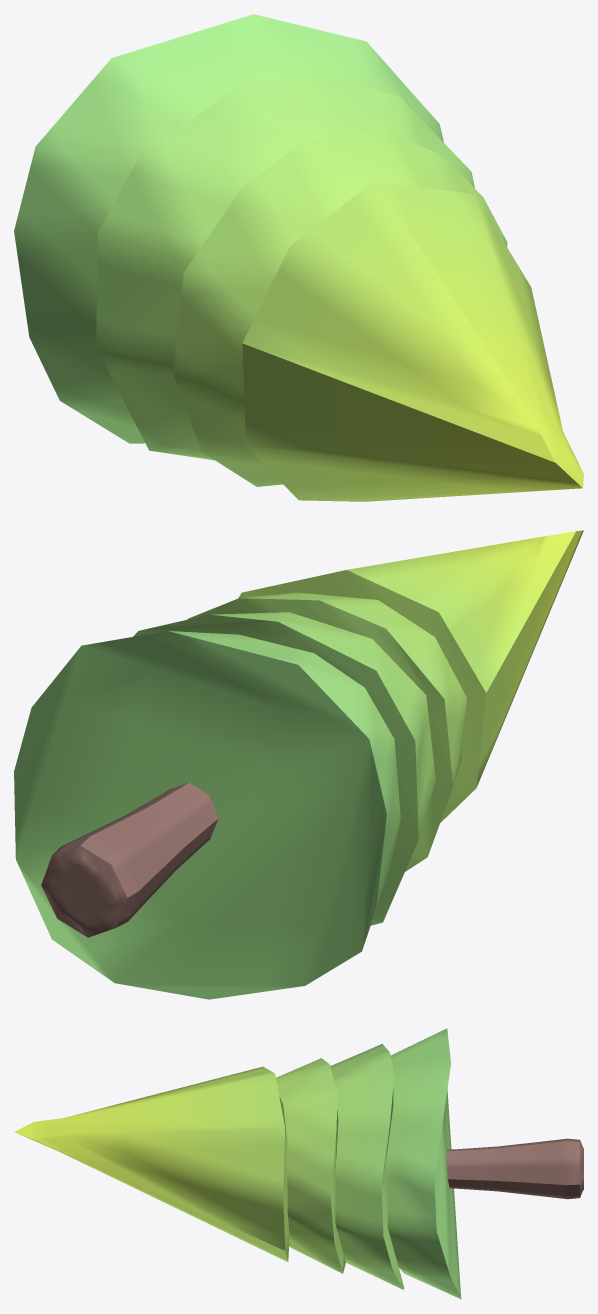
File: tree.gltf
The picture shows the model from 3 angles, top to bottom: view 1: azimuth 30°, elevation 25°; view 2: azimuth 150°, elevation 25°; view 3: azimuth 270°, elevation 25°; orthographic projection. The views are drawn at different scales.
Visible parts, largest first — view 1: Tree02_M_Green; view 2: Tree02_M_Green; view 3: Tree02_M_Green.
Boxes of the visible parts, bbox=[...] form: Tree02_M_Green: bbox=[14, 14, 583, 501]; Tree02_M_Green: bbox=[14, 530, 583, 999]; Tree02_M_Green: bbox=[14, 1028, 583, 1299].
Size of the model in its own units: 7.11 by 6.46 by 14.9.
1 material, 1 textured.
